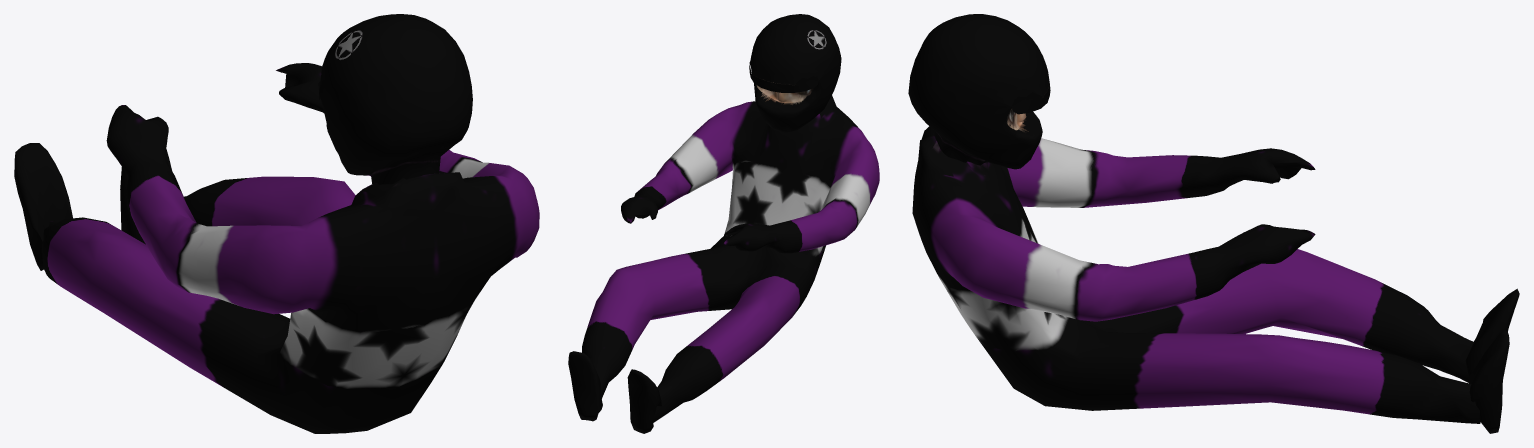
File: Mkartivontsvetomirova(piloto).fbx
The picture shows the model from 3 angles, left to right: view 1: azimuth 30°, elevation 25°; view 2: azimuth 150°, elevation 25°; view 3: azimuth 270°, elevation 25°; orthographic projection. The views are drawn at different scales.
Parts seen in each view (by area): view 1: piloto; view 2: piloto; view 3: piloto.
Boxes of the visible parts, box(x1,y1,x2,y2) form: piloto: box(14, 14, 539, 433); piloto: box(568, 14, 879, 433); piloto: box(908, 14, 1519, 433).
Size of the model in its own units: 59.86 by 80.59 by 114.
Materials: 1 (1 with a texture image).
